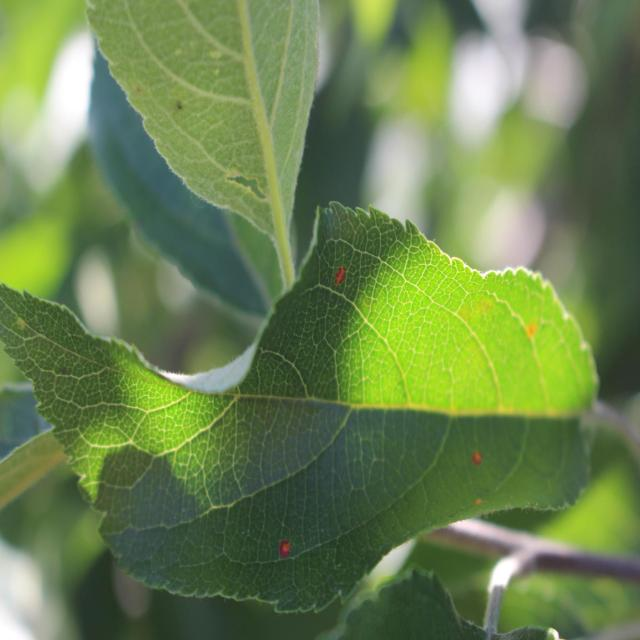Rust: (520, 312, 545, 362), (275, 532, 298, 566), (332, 256, 354, 288), (471, 435, 486, 474)
